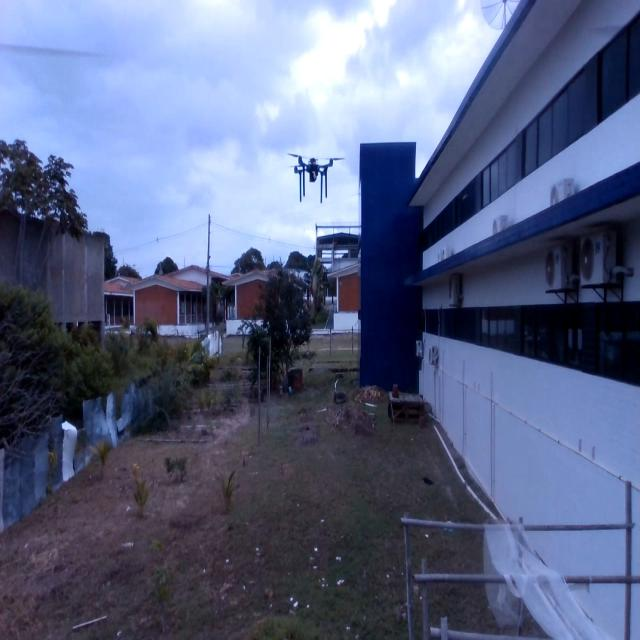-uav-: (282, 148, 350, 208)
